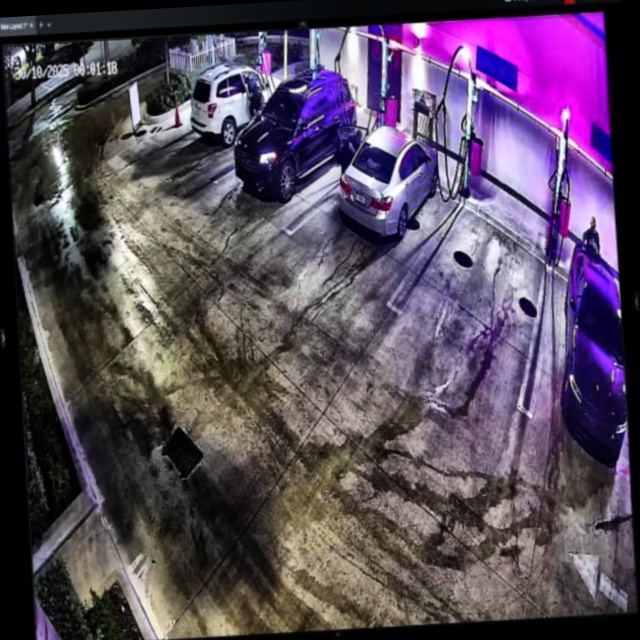Car: (231, 69, 363, 202), (333, 120, 444, 246), (185, 67, 274, 147)
